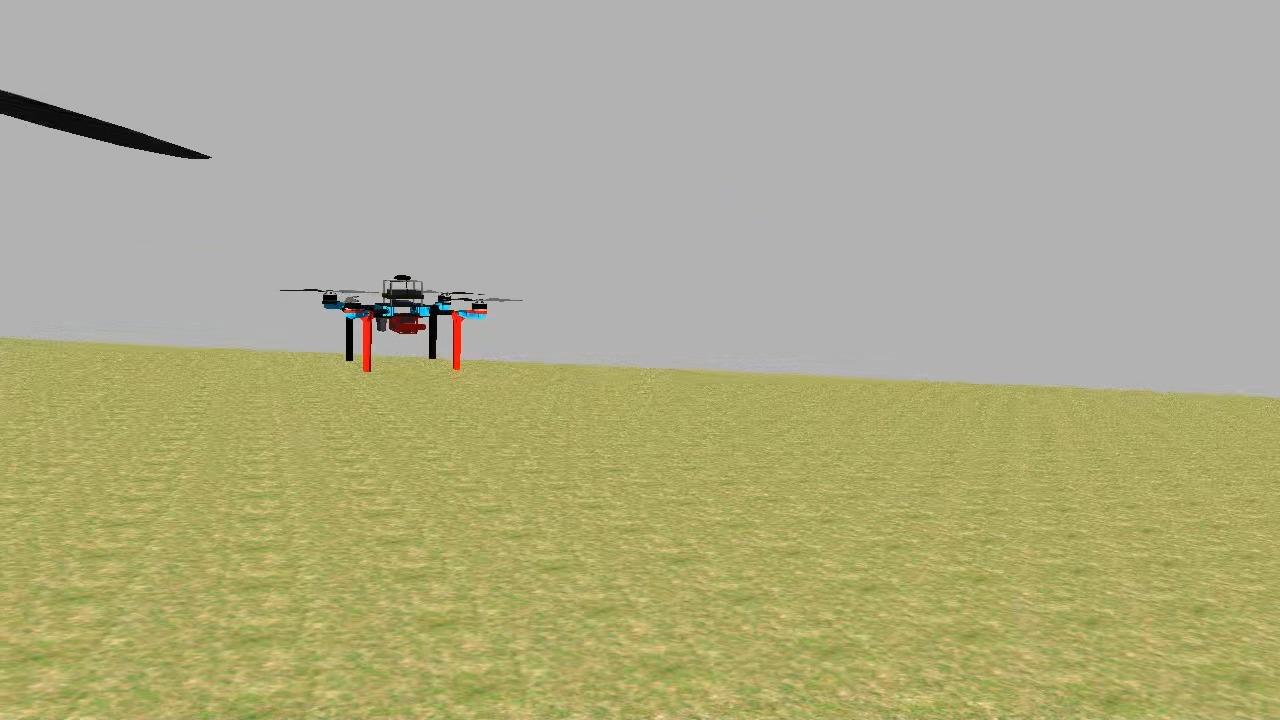UAV: (317, 270, 496, 383)
